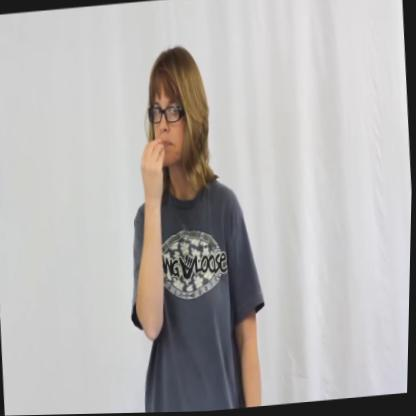Food: (132, 32, 225, 201)
